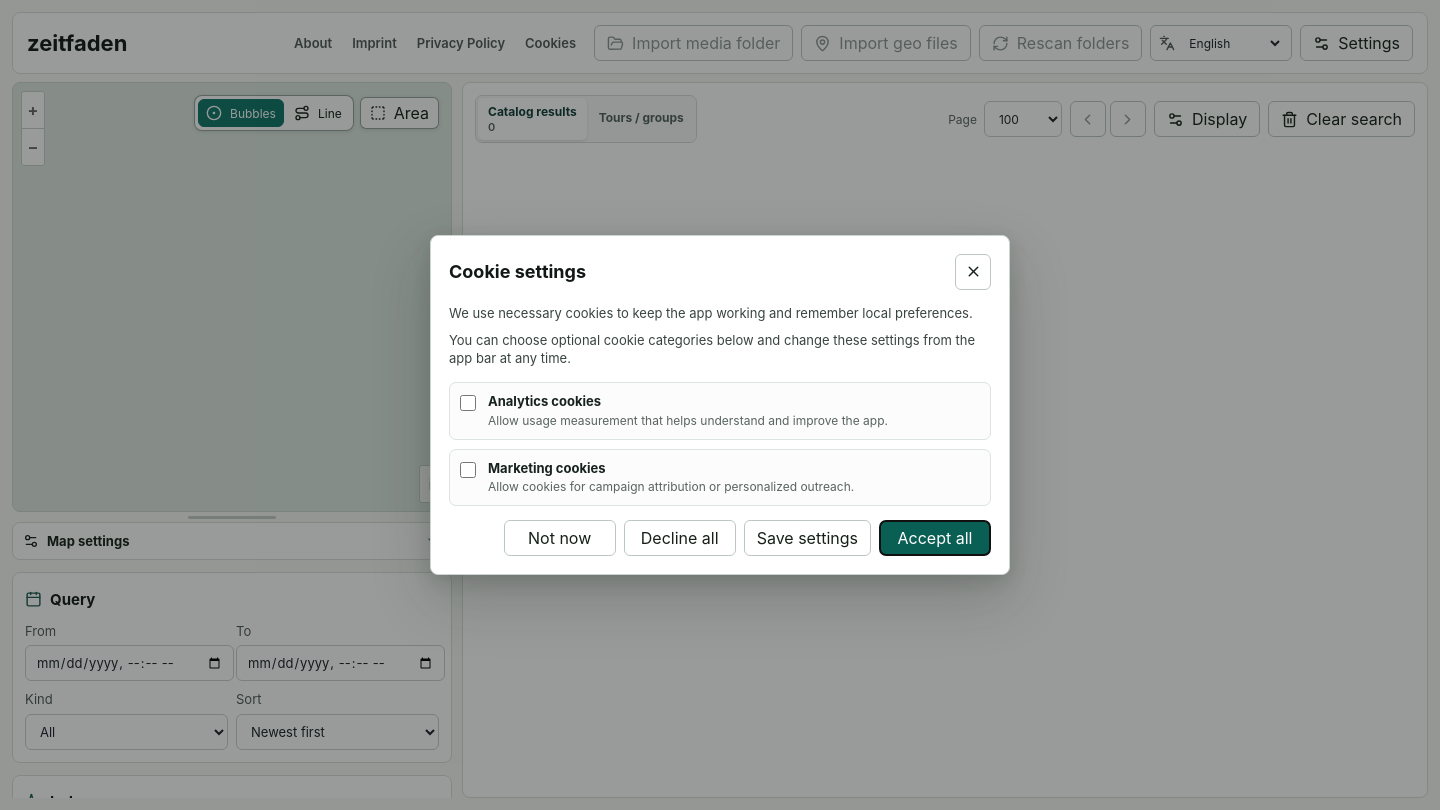
Test: App pagination › declines optional cookie choices
Step 1. Click the button "Decline all" → (680, 538), box [624,520,736,556]
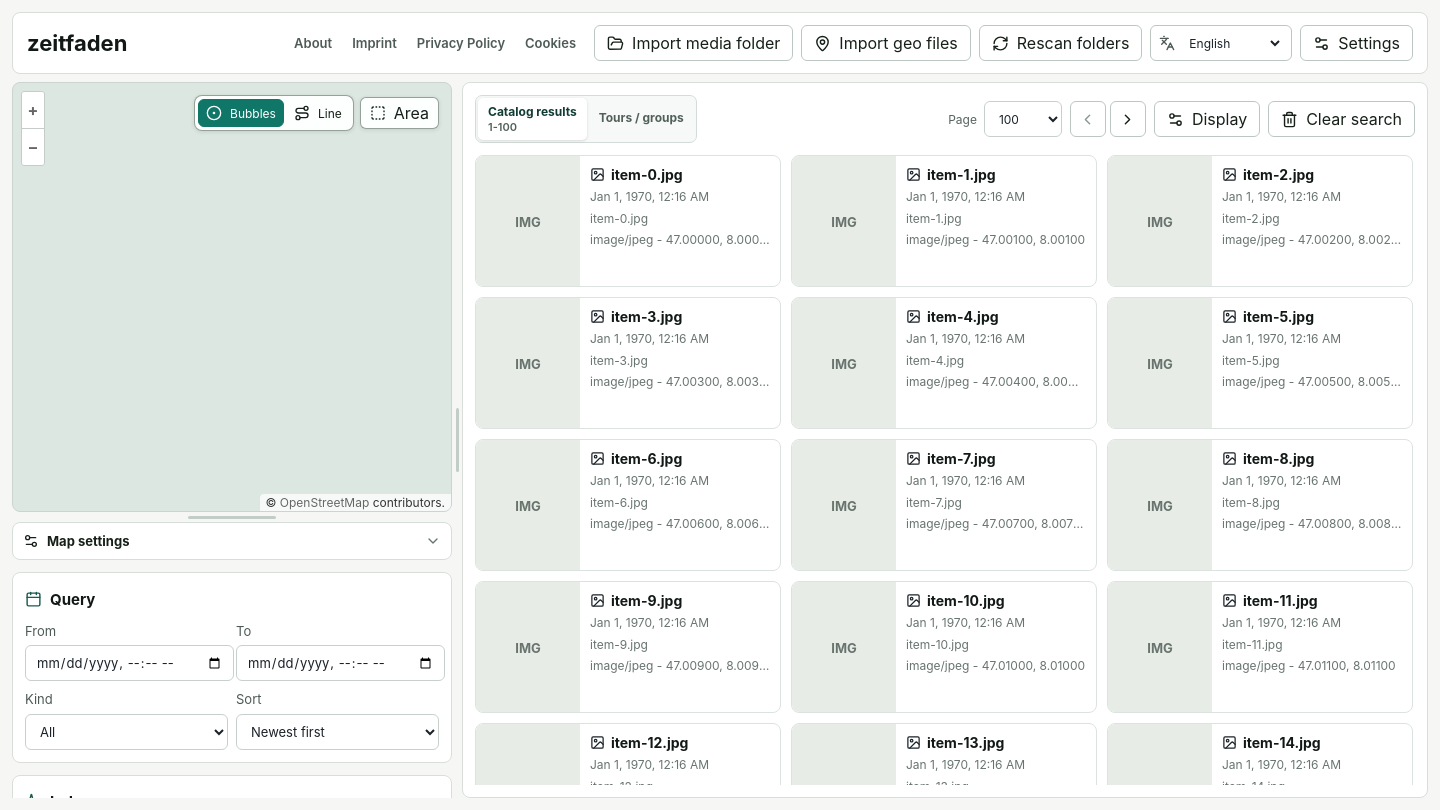
Check: the heading "Cookie settings" is gone
